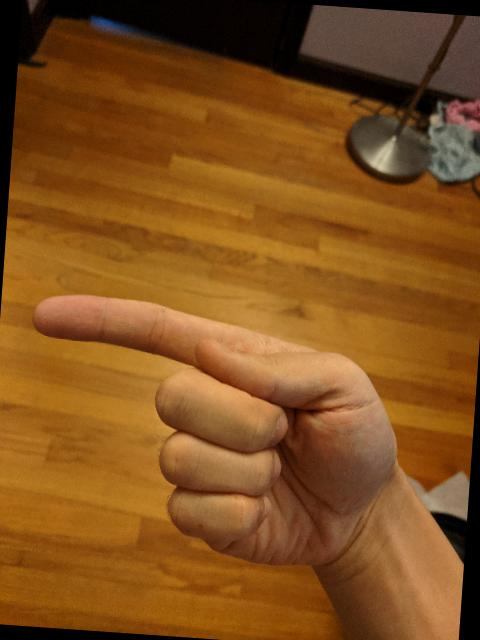G: (9, 284, 414, 578)
